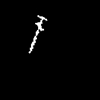double_crochet: (29, 15, 46, 52)
